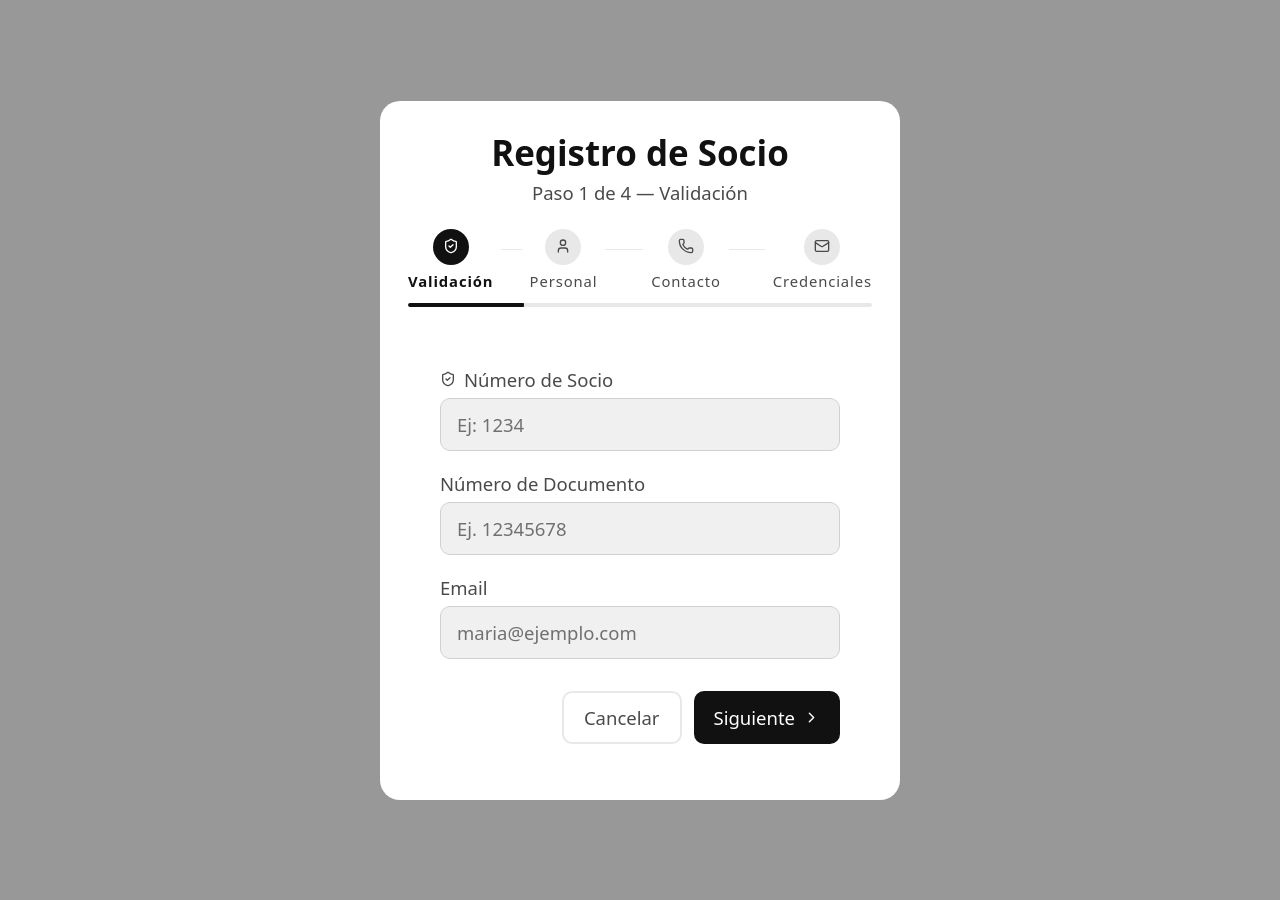
Test: RegistroSocioForm › muestra error cuando los datos no coinciden con ningún socio
Type "1000" into the field with placeholder "Ej: 1234".
click(640, 424); type("1000")  # box top-left (440, 398), bottom-right (840, 450)
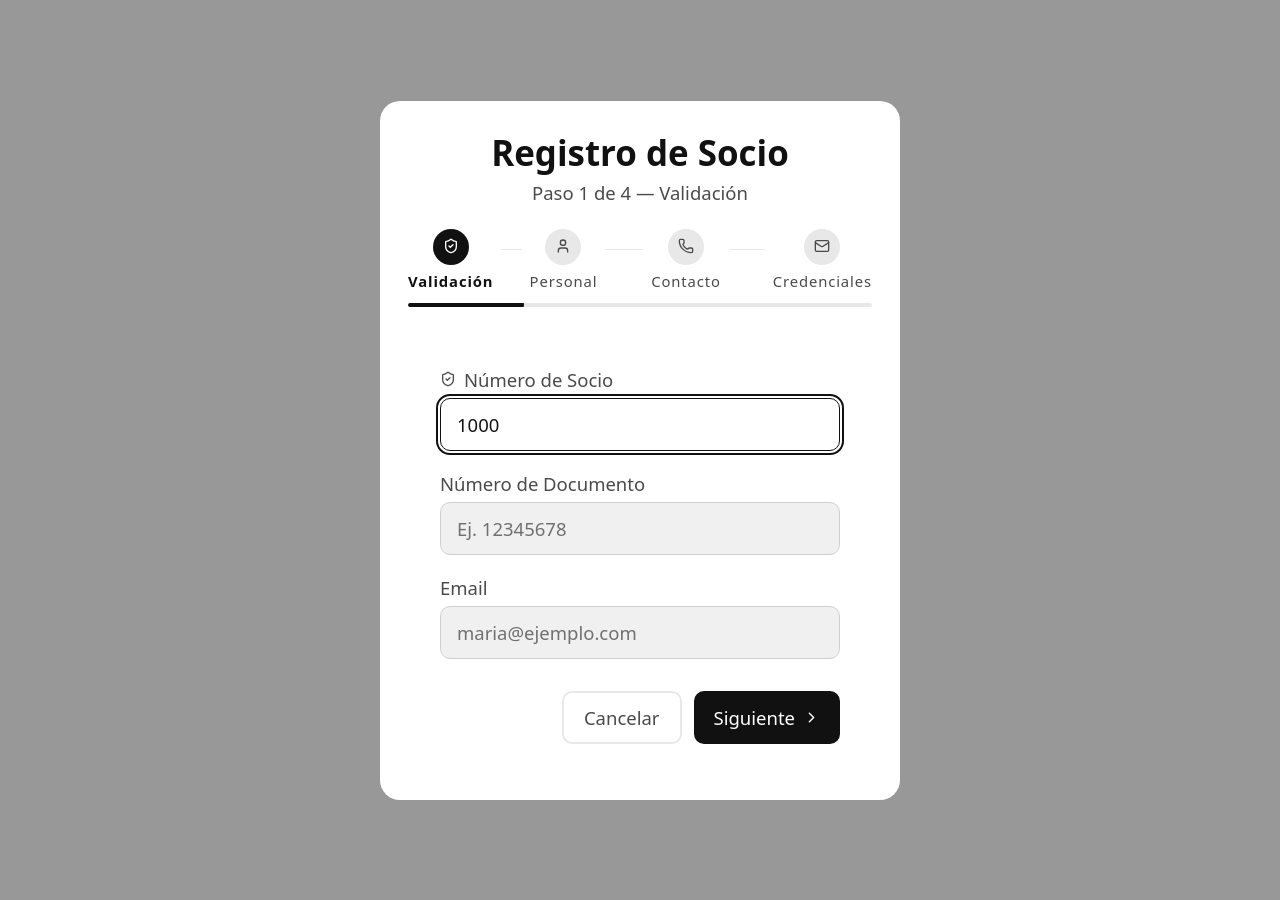
Type "12345678" into the field with placeholder "Ej. 12345678".
click(640, 528); type("12345678")  # box top-left (440, 502), bottom-right (840, 554)
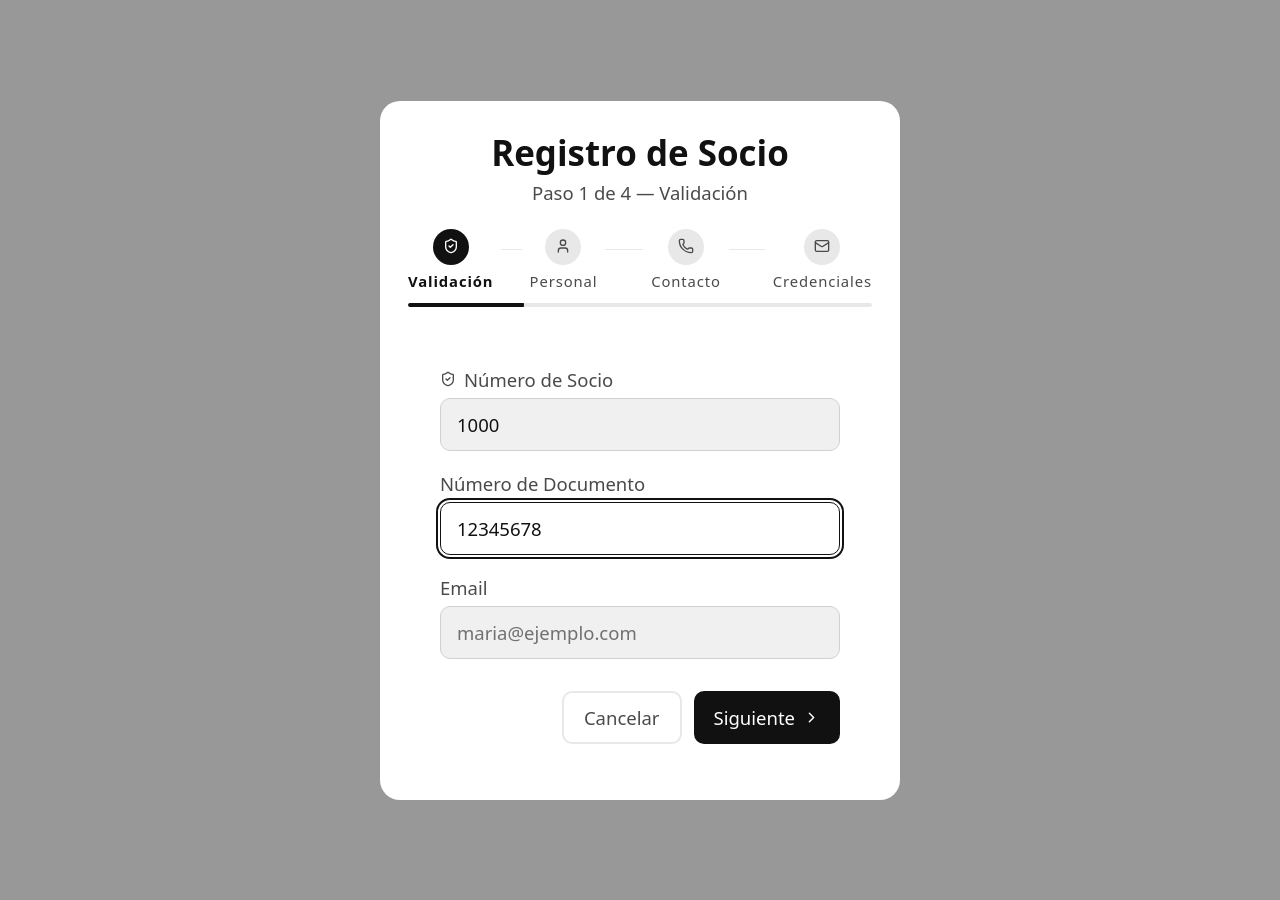
Type "juan@club.com" into the field with placeholder "maria@ejemplo.com".
click(640, 632); type("juan@club.com")  # box top-left (440, 606), bottom-right (840, 658)
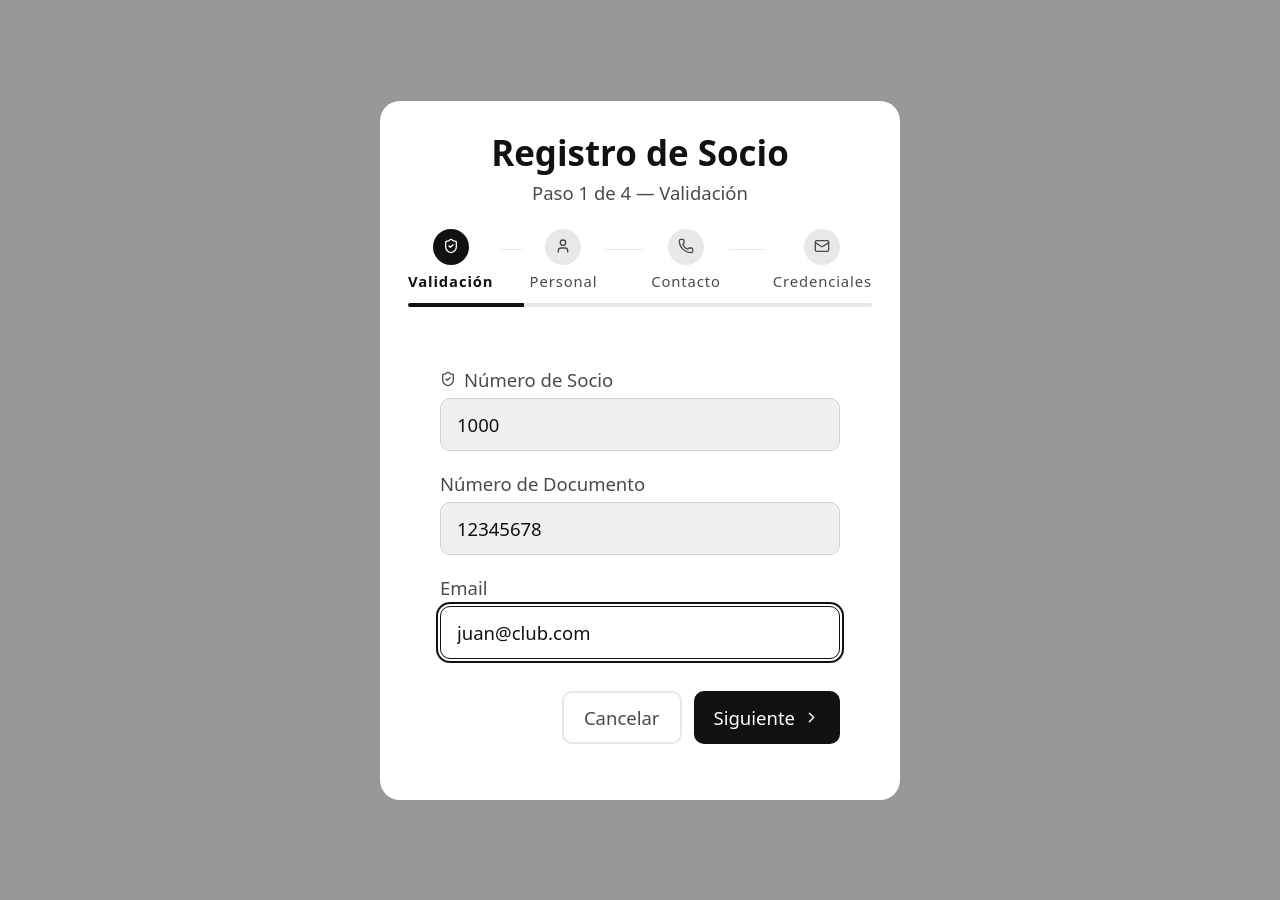
Click the button "Siguiente".
click(767, 717)  # box top-left (694, 690), bottom-right (840, 744)
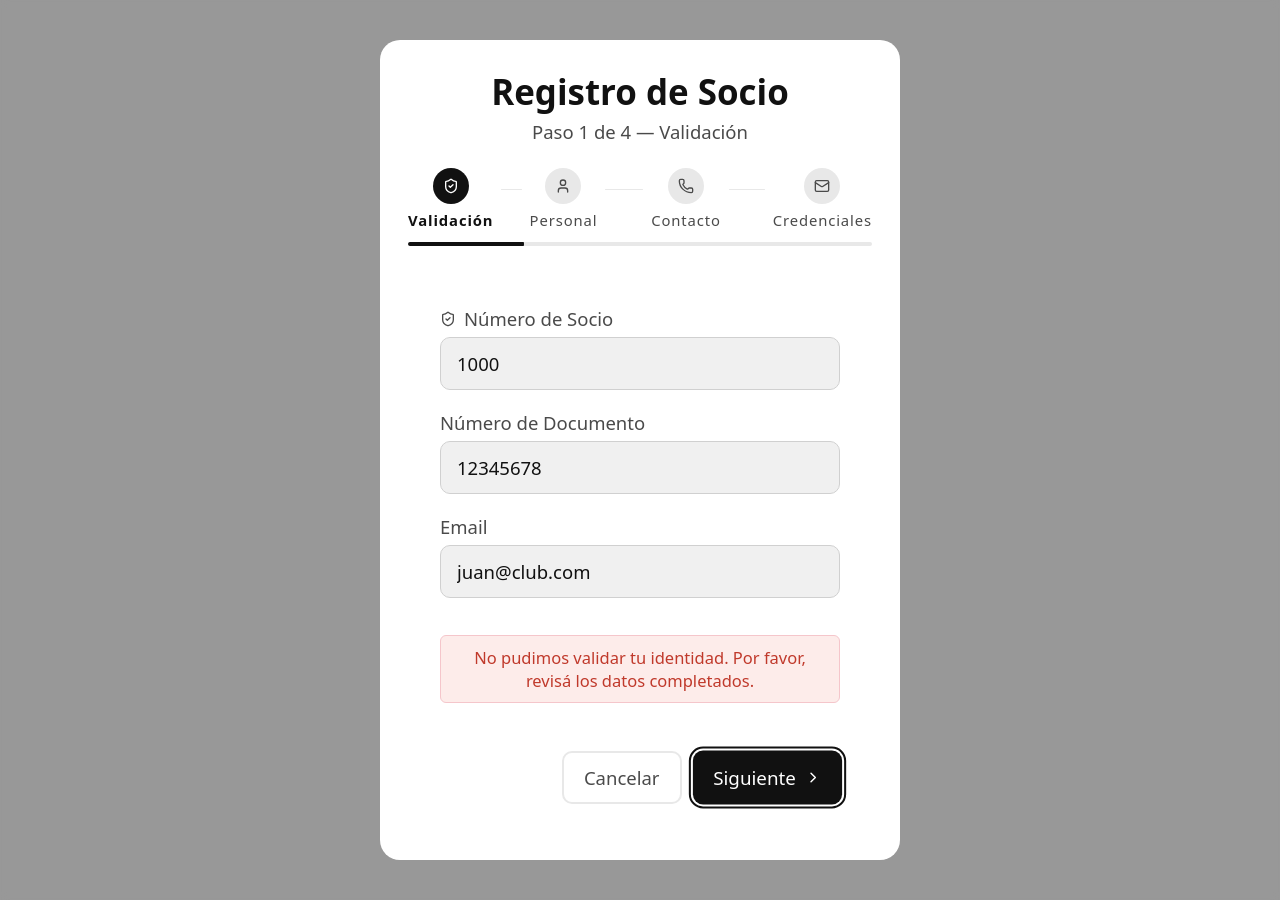
Expected: the text "No pudimos validar tu identidad" is shown, top-left (474, 646), bottom-right (806, 692)
